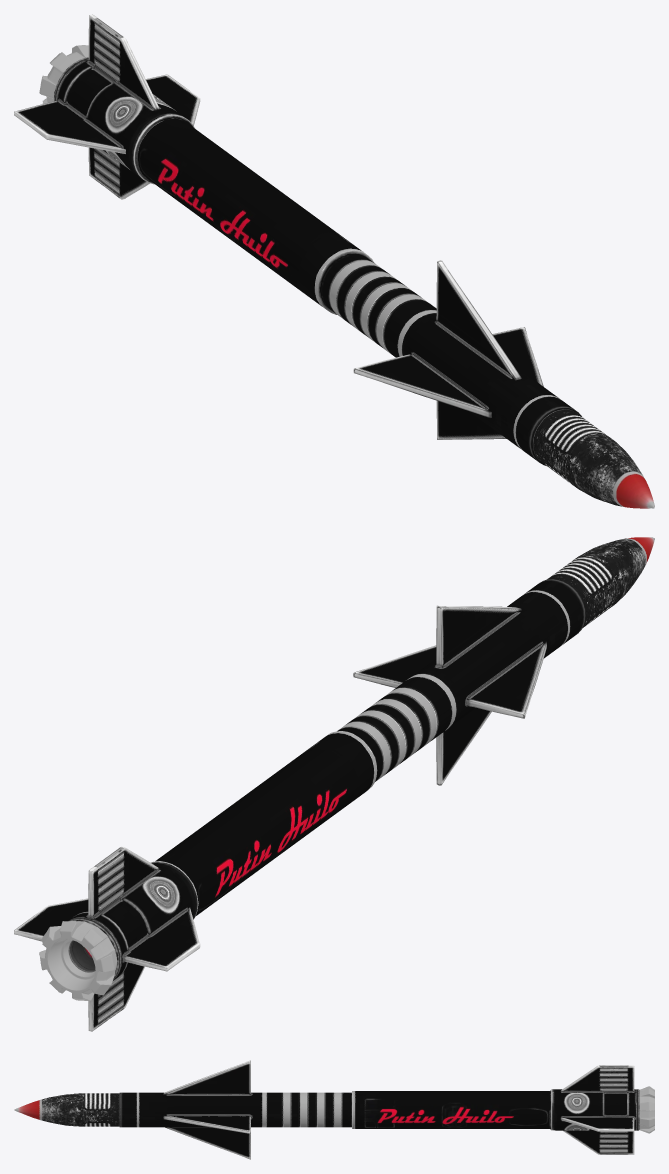
The model's file is putin_huilo-transformed.glb.
The picture shows the model from 3 angles, top to bottom: view 1: azimuth 30°, elevation 25°; view 2: azimuth 150°, elevation 25°; view 3: azimuth 270°, elevation 25°; orthographic projection. The views are drawn at different scales.
Visible parts, largest first — view 1: missle; view 2: missle; view 3: missle.
Boxes of the visible parts, bbox=[...] form: missle: bbox=[14, 14, 654, 508]; missle: bbox=[14, 537, 654, 1031]; missle: bbox=[14, 1060, 654, 1159].
Size of the model in its own units: 0.8424 by 0.8424 by 4.97.
1 material, 1 textured.
